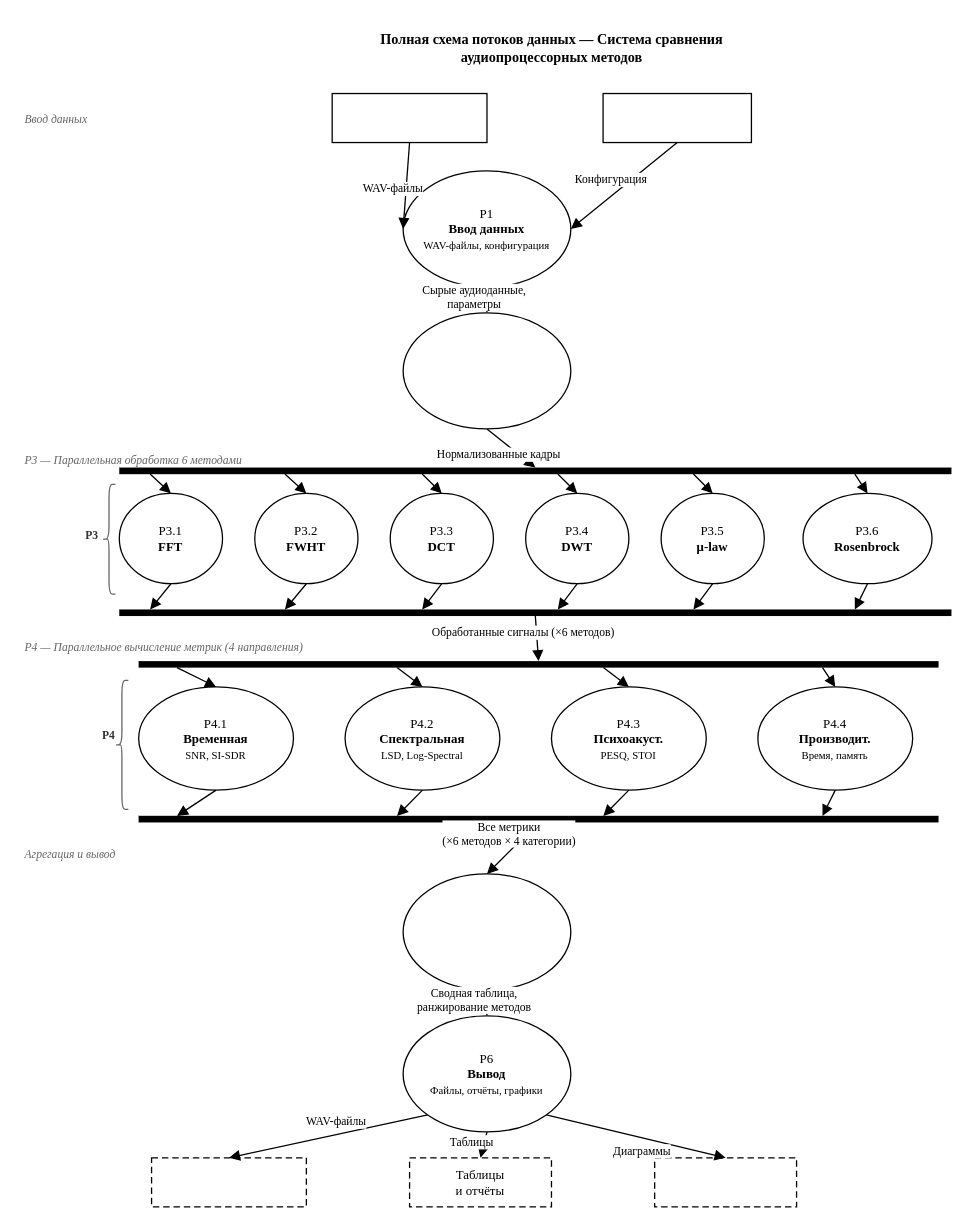
Some shapes in this 973 by 1229 pixel diagram are drawn without their labels. The shapes that lost their labels are listed below. From the top down, each one's centre as x and y in pixels, then its label:
point 409,117: Аудиодатасет
point 676,117: Пользователь
point 486,370: P2 Предобработка Нормализация, фреймирование
point 486,931: P5 Агрегация и сравнение
point 228,1181: Обработанные WAV-файлы
point 725,1181: Диаграммы и графики
